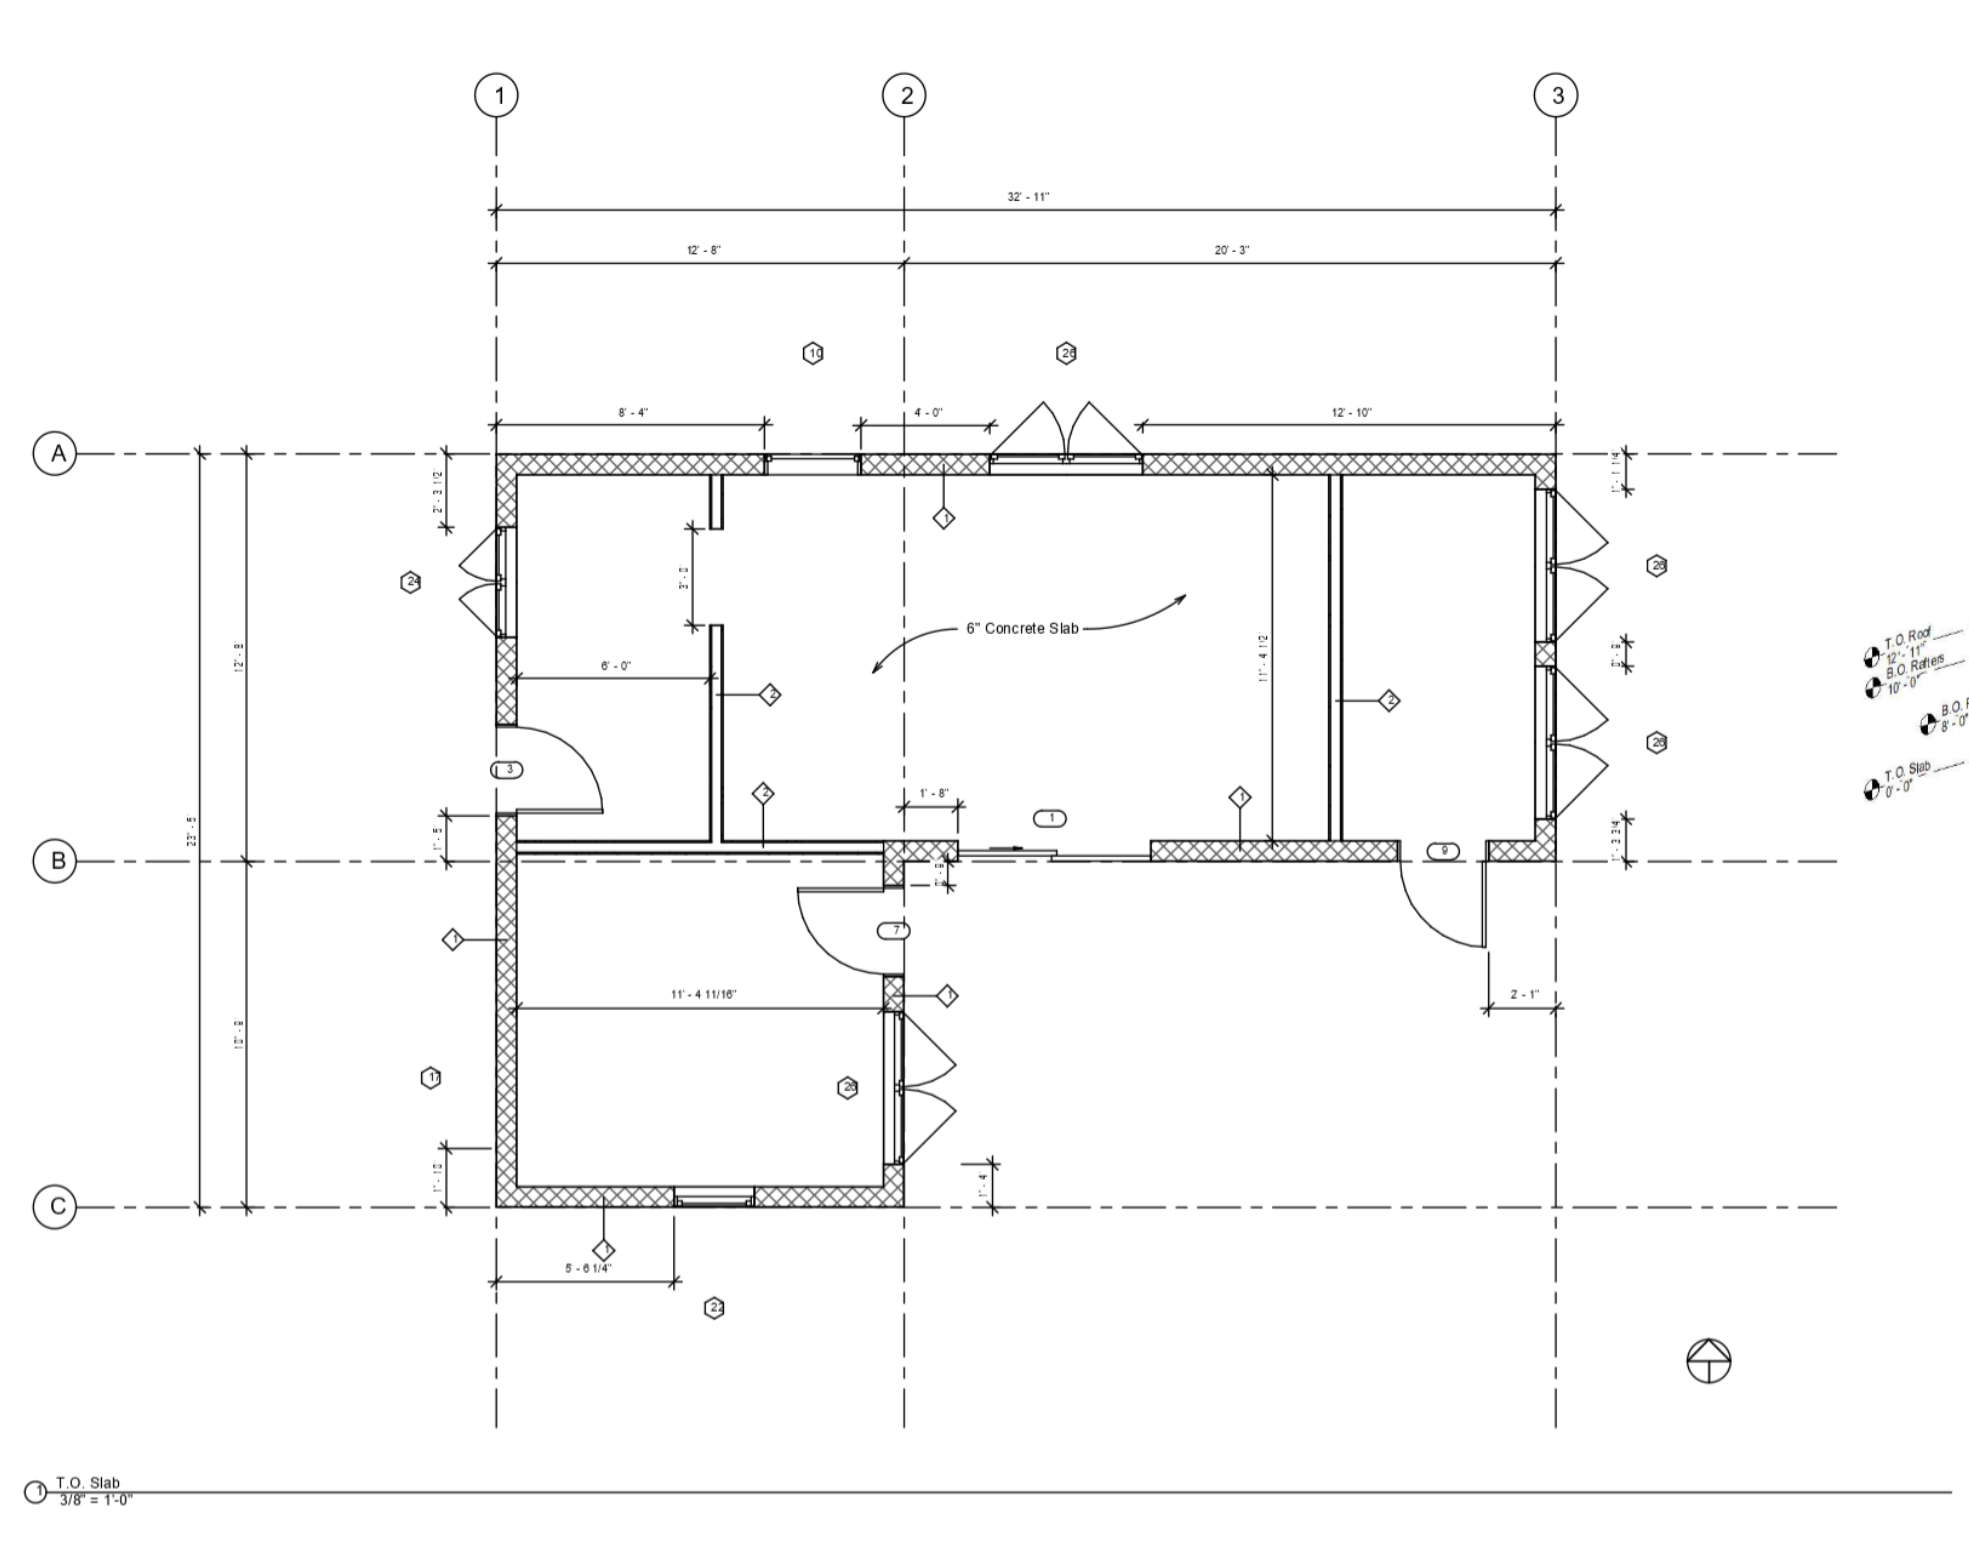door_left: (1387, 832, 1498, 959)
door_right: (786, 876, 922, 987), (483, 716, 615, 826)
measurement_marker: (484, 189, 1566, 224), (177, 438, 213, 1222), (893, 238, 1571, 276), (484, 236, 914, 280), (500, 981, 897, 1021), (225, 439, 261, 876), (1250, 462, 1288, 853), (1132, 404, 1571, 435), (229, 845, 261, 1224), (483, 404, 777, 438), (505, 657, 724, 692), (484, 1261, 687, 1296), (849, 404, 1004, 435), (674, 514, 711, 642), (1477, 984, 1571, 1026), (424, 439, 460, 542), (430, 1134, 465, 1222), (892, 781, 972, 818), (972, 1149, 1008, 1224), (427, 800, 463, 876), (1606, 438, 1645, 503), (1606, 807, 1645, 871), (1606, 626, 1645, 682), (932, 848, 959, 898)
sliding_door: (945, 826, 1167, 880)
typermarker_diamond: (1223, 778, 1256, 815), (753, 677, 790, 709), (438, 922, 470, 955), (1371, 682, 1403, 716), (925, 503, 961, 534), (933, 976, 961, 1015), (748, 776, 778, 808), (588, 1233, 622, 1262)
typermarker_hexagon: (392, 566, 432, 601), (794, 336, 831, 371), (1637, 725, 1677, 757), (829, 1072, 866, 1106), (1048, 336, 1084, 369), (1640, 550, 1675, 582), (416, 1061, 447, 1094), (698, 1293, 734, 1321)
typermarker_oblong: (1419, 836, 1469, 869), (1024, 804, 1076, 836), (479, 756, 532, 784), (869, 915, 919, 944)
wall_latice_texture: (483, 804, 527, 1214), (1132, 444, 1566, 479), (1143, 829, 1406, 869), (489, 446, 769, 483), (483, 1181, 684, 1217), (746, 1179, 916, 1217), (483, 633, 542, 735), (853, 446, 996, 483), (1474, 836, 1571, 876), (487, 449, 524, 535), (1525, 812, 1569, 880), (874, 836, 969, 868), (874, 967, 917, 1018), (1528, 444, 1563, 500), (877, 1157, 909, 1217), (881, 829, 909, 896), (1526, 631, 1565, 674)
wall_no_texture: (1320, 463, 1355, 852), (507, 829, 892, 864), (700, 615, 732, 844), (702, 470, 730, 535)
window_french: (1515, 658, 1625, 826), (980, 395, 1156, 492), (869, 1003, 970, 1171), (1521, 483, 1617, 650), (447, 519, 534, 647)
window_regular: (665, 1173, 762, 1222), (756, 449, 866, 483)
